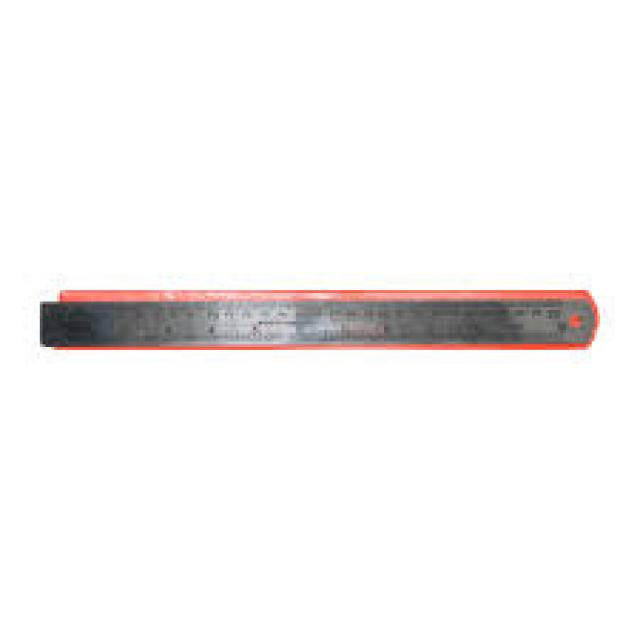Ruler: (40, 300, 597, 347)
